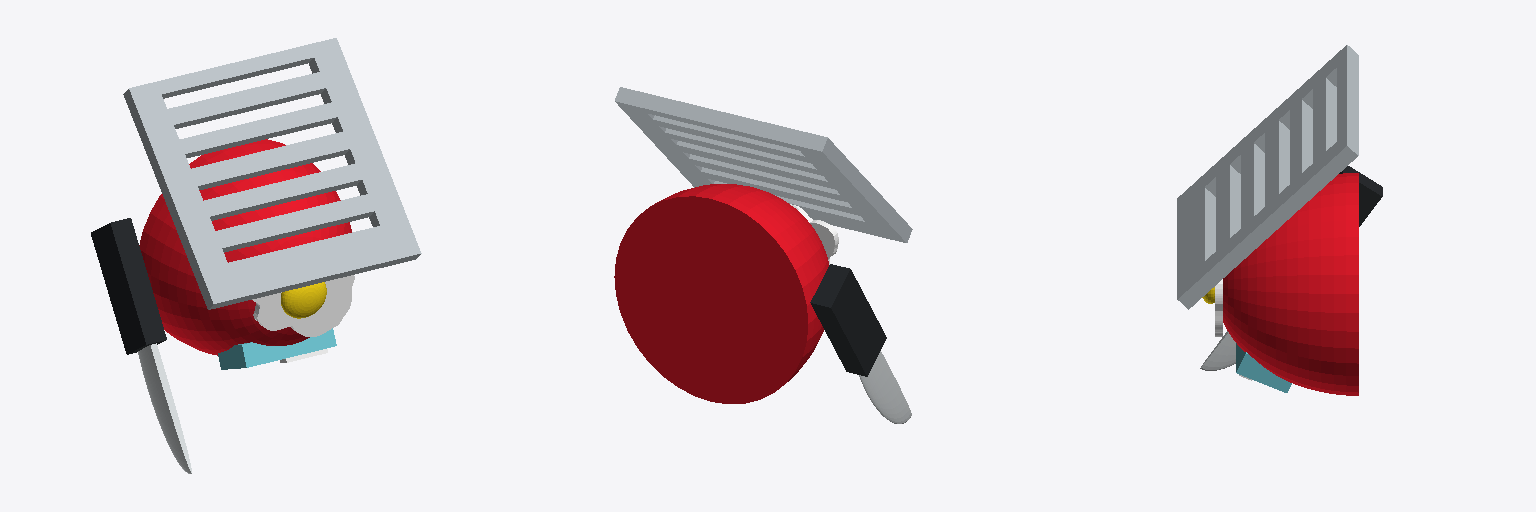
File: imposter.obj
3 renders of one model, left to right at view 1: azimuth 30°, elevation 25°; view 2: azimuth 150°, elevation 25°; view 3: azimuth 270°, elevation 25°, orthographic.
Visible parts, largest first — view 1: obj_0; view 2: obj_0; view 3: obj_0.
Part boxes in pixels (left/top/right/bottom): obj_0: left=91, top=38, right=421, bottom=473; obj_0: left=614, top=87, right=912, bottom=423; obj_0: left=1177, top=45, right=1382, bottom=395.
Size of the model in its own units: 33 by 45.77 by 25.63.